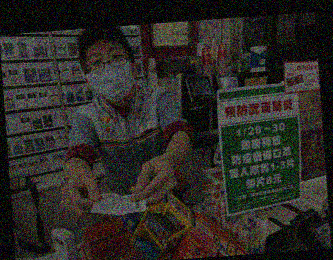with_mask: (85, 44, 137, 102)
